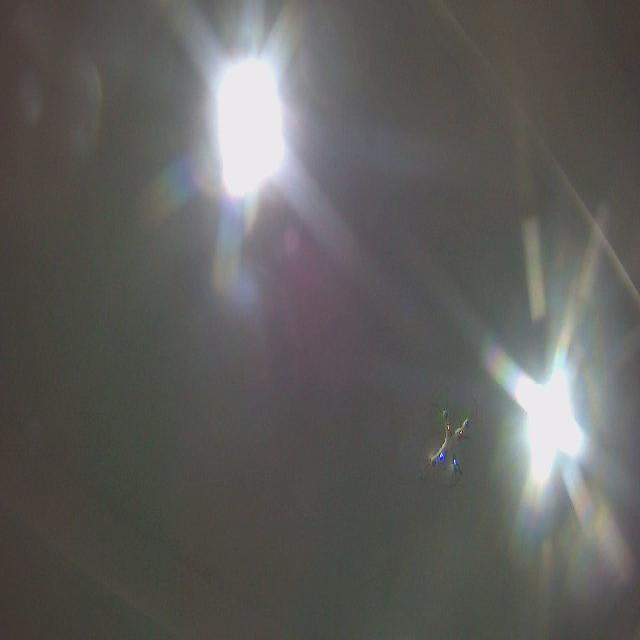drone: (414, 383, 482, 494)
